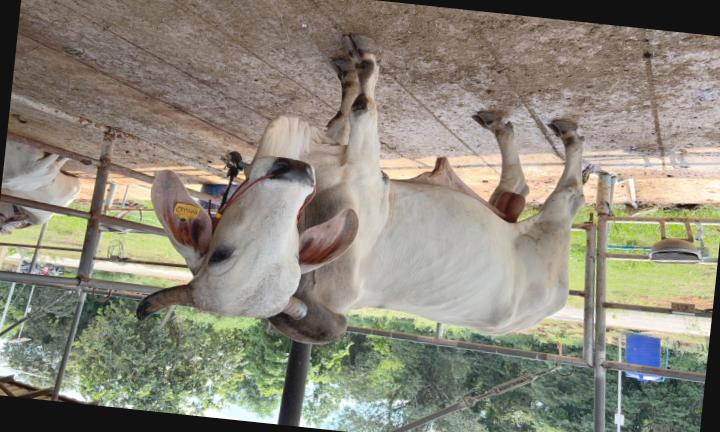Brahman: (136, 35, 588, 344)
